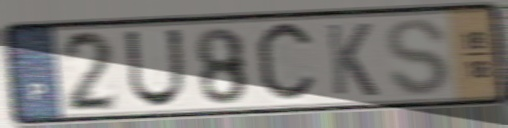2: (62, 29, 120, 113)
8: (194, 25, 250, 106)
C: (252, 17, 319, 109)
K: (323, 22, 381, 99)
S: (383, 16, 453, 99)
U: (122, 26, 186, 110)
